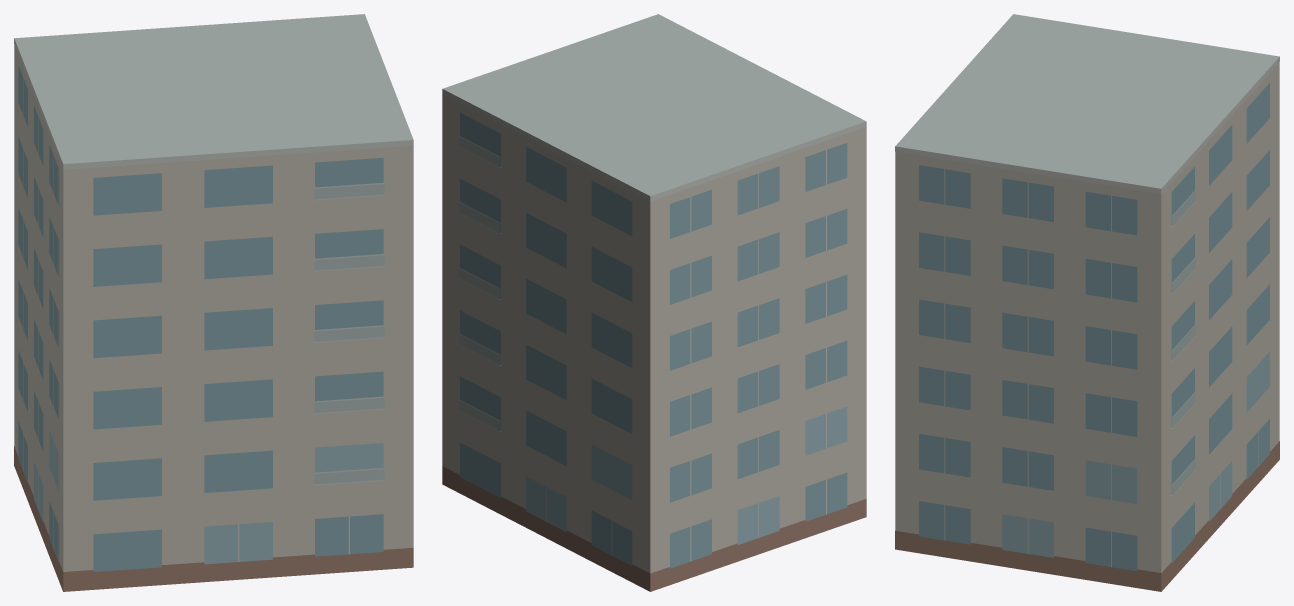
Rendered from survey-upis-32881716.glb.
3 renders of one model, left to right at view 1: azimuth 30°, elevation 25°; view 2: azimuth 150°, elevation 25°; view 3: azimuth 270°, elevation 25°, orthographic. The views are drawn at different scales.
Visible parts, largest first — view 1: survey-upis-32881716.tmp; view 2: survey-upis-32881716.tmp; view 3: survey-upis-32881716.tmp.
Boxes of the visible parts, left/top/right/bottom form: survey-upis-32881716.tmp: left=14, top=14, right=413, bottom=591; survey-upis-32881716.tmp: left=442, top=14, right=866, bottom=591; survey-upis-32881716.tmp: left=895, top=14, right=1279, bottom=591.
Bounding box in the file's own units: 17.03 × 18.3 × 15.84.
